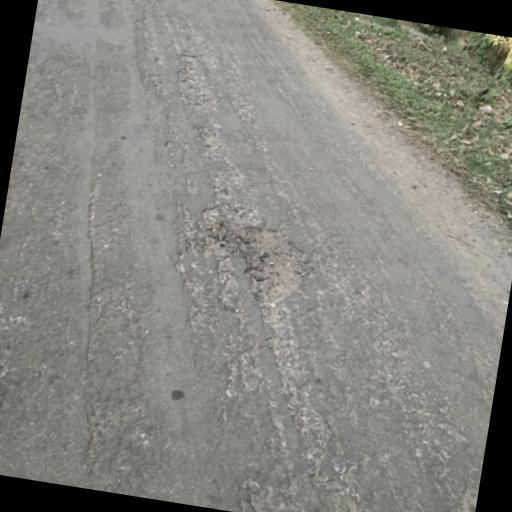pothole: (224, 219, 314, 311)
